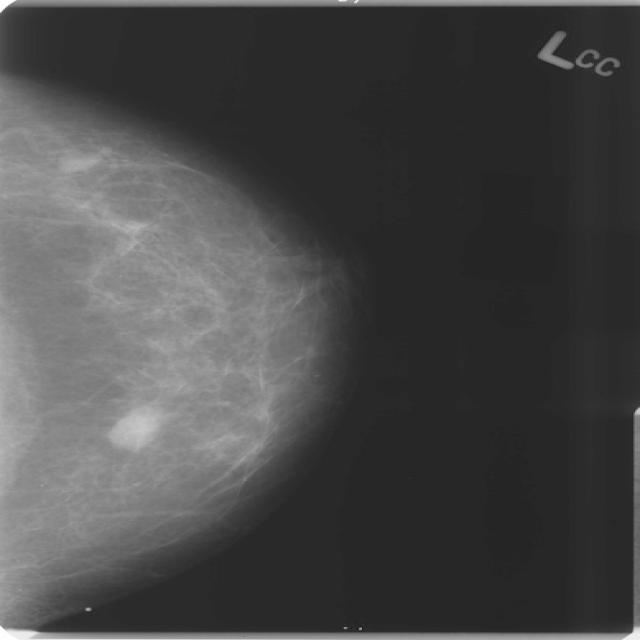tumour: (106, 405, 156, 451)
